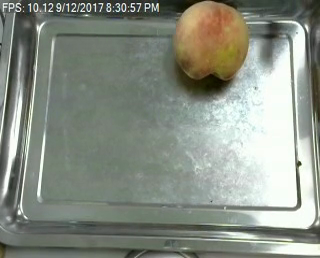Peach: (173, 1, 249, 81)
